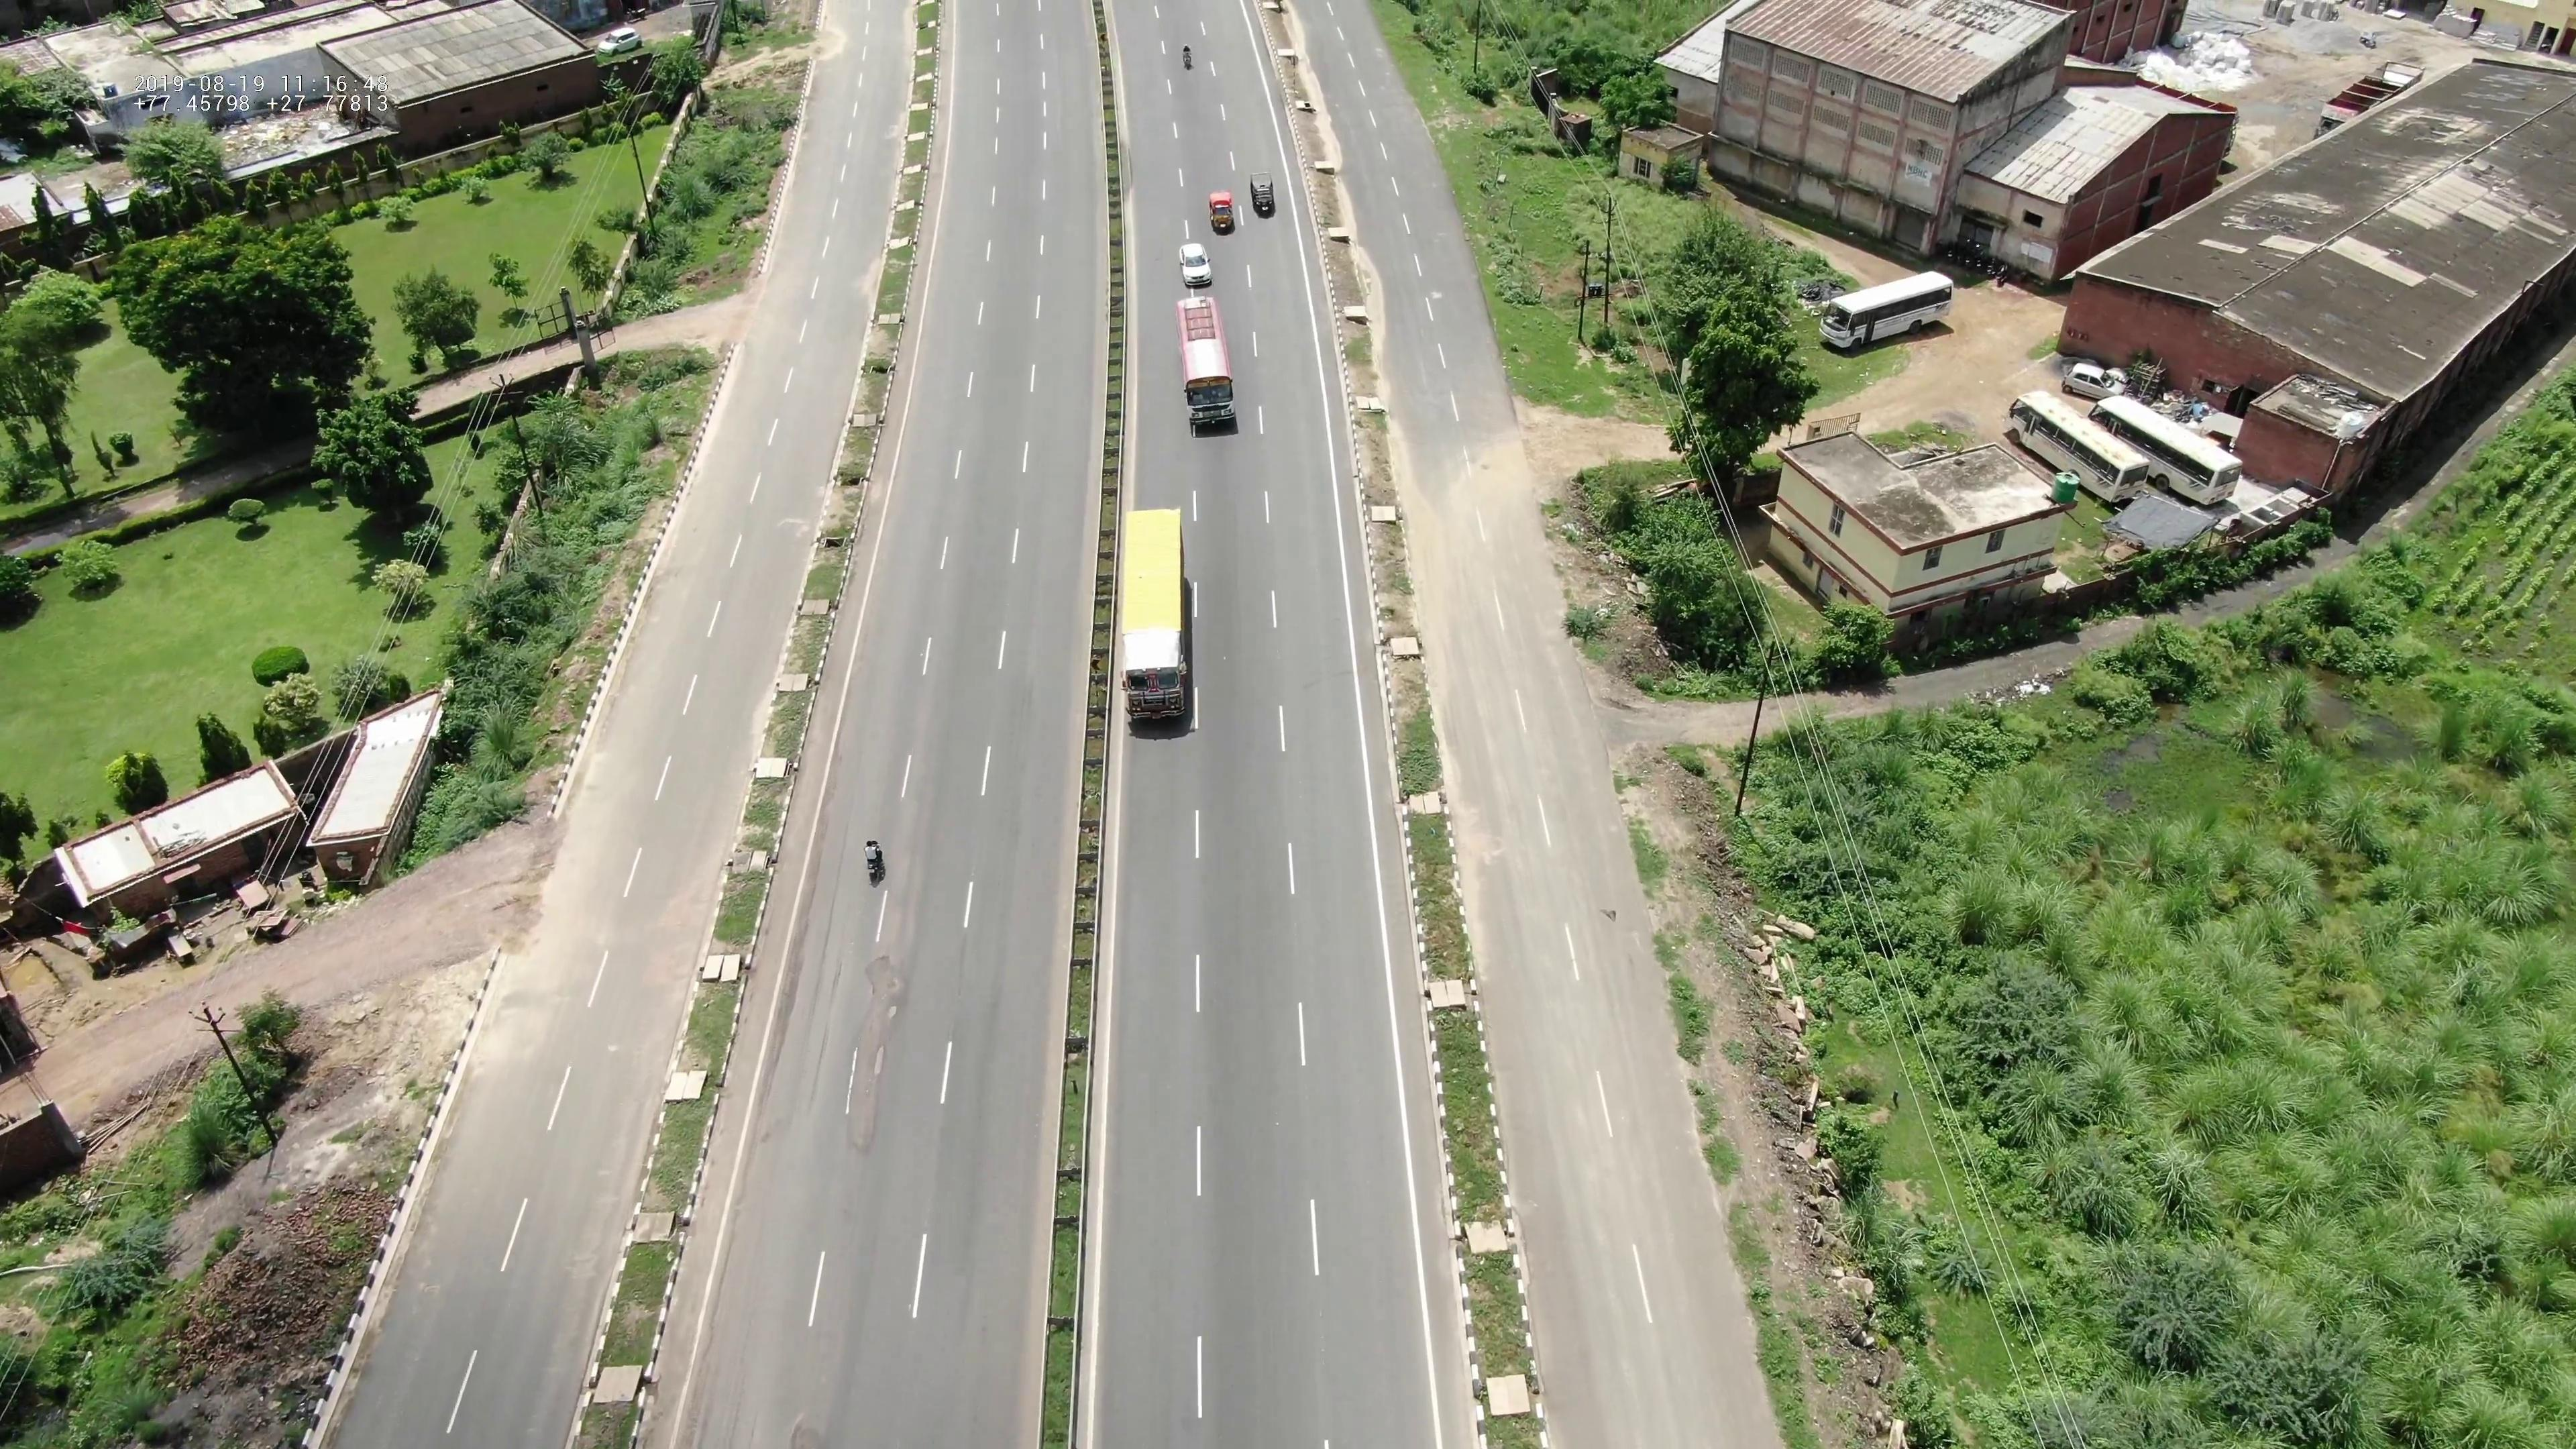Potholes: (855, 985, 908, 1118)
